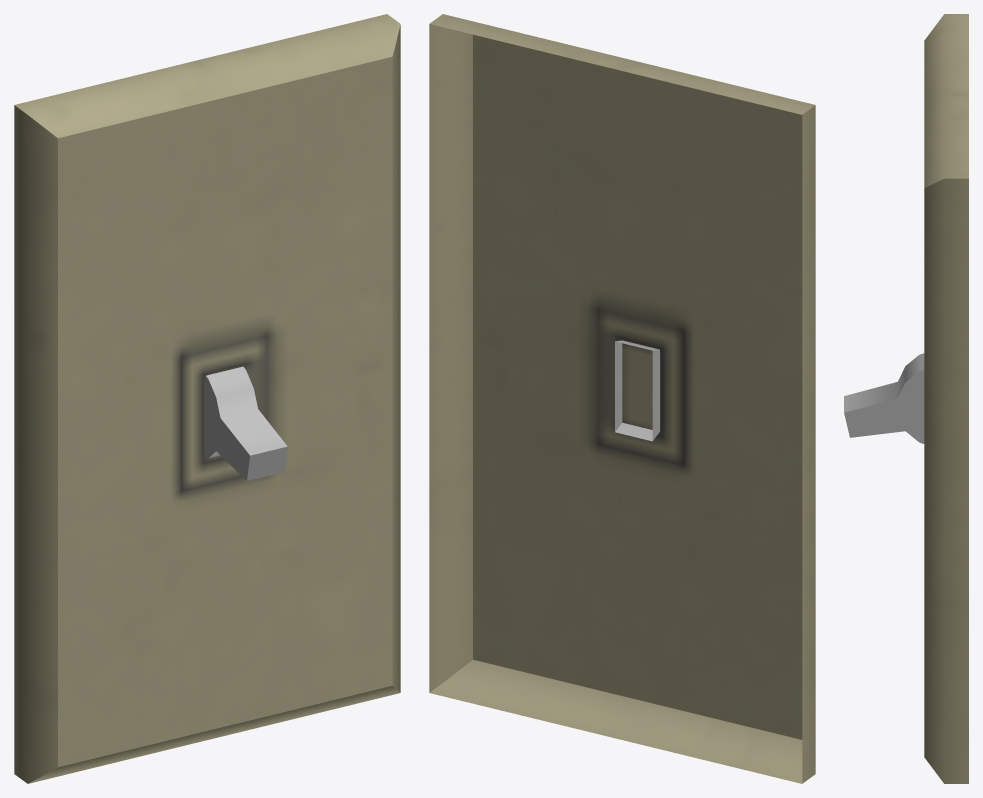
Rendered from LightSwitch.fbx.
3 views of the same model, side by side, from view 1: azimuth 30°, elevation 25°; view 2: azimuth 150°, elevation 25°; view 3: azimuth 270°, elevation 25° (orthographic). The views are drawn at different scales.
Parts seen in each view (by area): view 1: LightSwitch; view 2: LightSwitch; view 3: LightSwitch.
Part boxes in pixels (<box>): LightSwitch: <box>14,14,400,783</box>; LightSwitch: <box>429,14,815,783</box>; LightSwitch: <box>844,14,968,783</box>.
Bounding box in the file's own units: 7 × 12 × 2.24.
